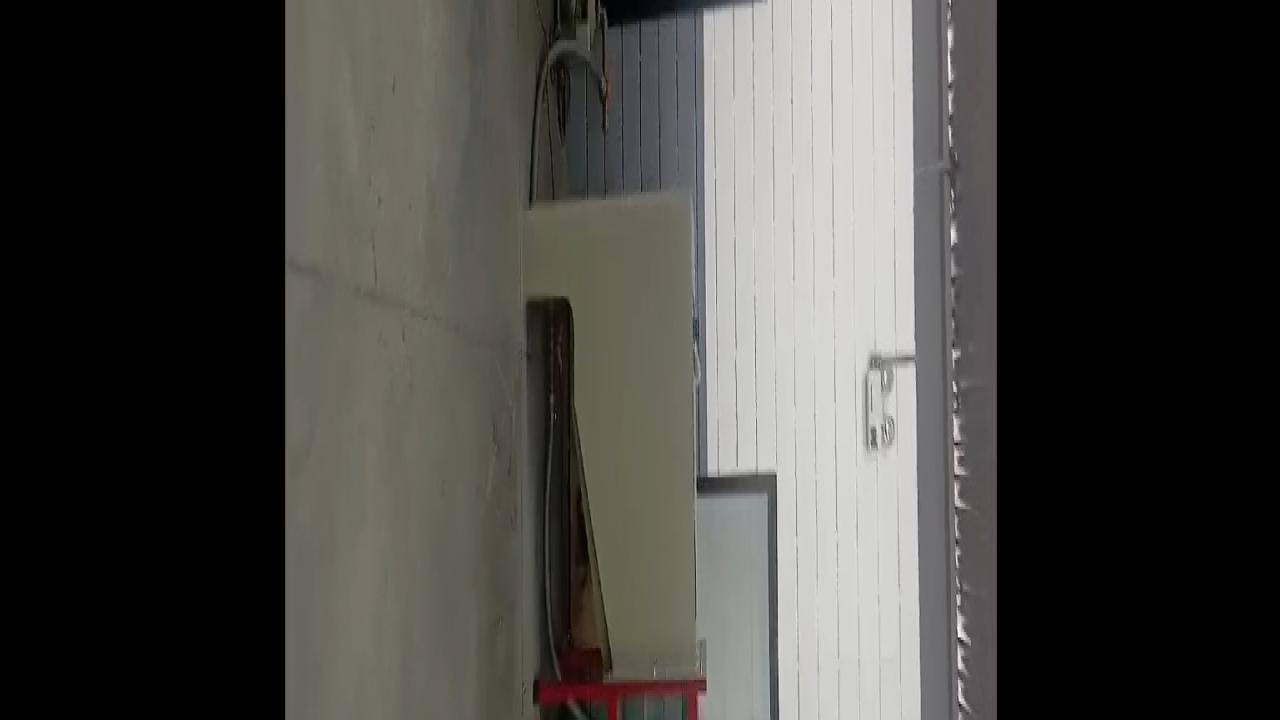Cube: (692, 315, 698, 345)
